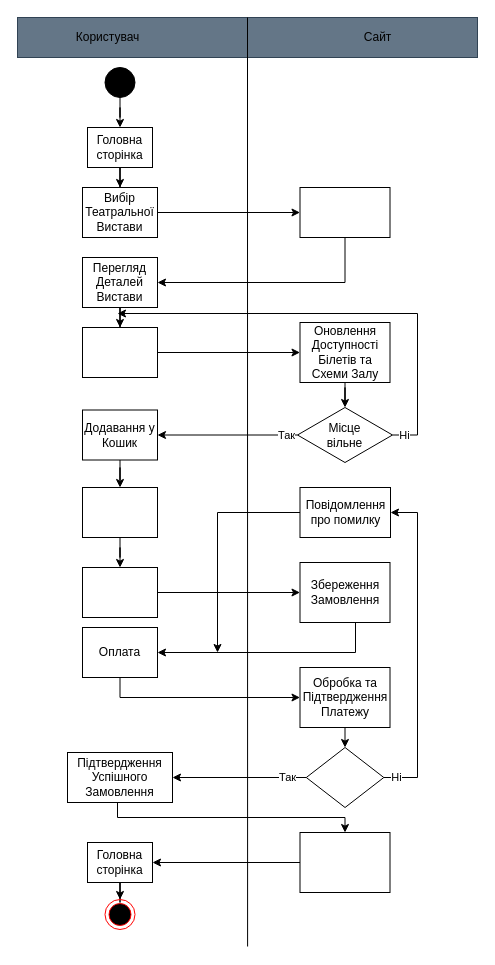
This 495x965 diagram has some shape labels left out. The shapes that lost their labels are listed below. From the top down, each one's centre as x and y in pixels, then its label:
At [344,212]: "Завантаження Даних Про Вистави".
At [120,352]: "Вибір Білетів та Місць".
At [120,512]: "Оформлення Замовлення".
At [120,592]: "Введення Даних".
At [344,777]: "Оплата успішна".
At [344,862]: "Відправлення Підтвердження та Білетів".
